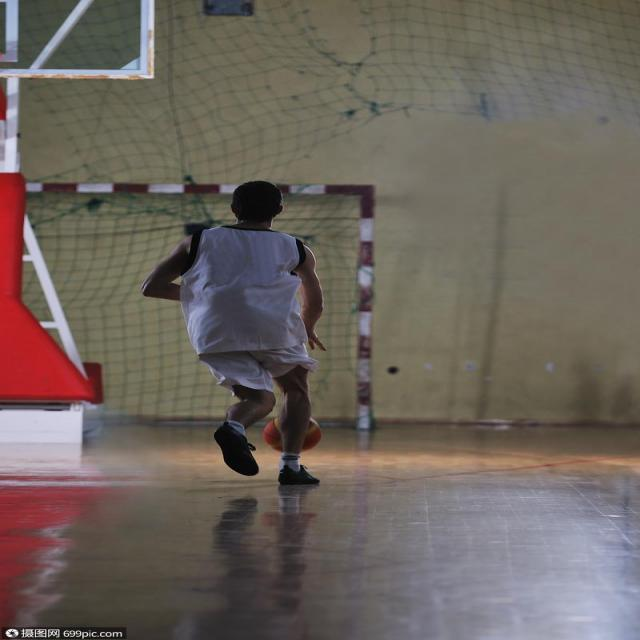rim: (268, 418, 317, 450)
